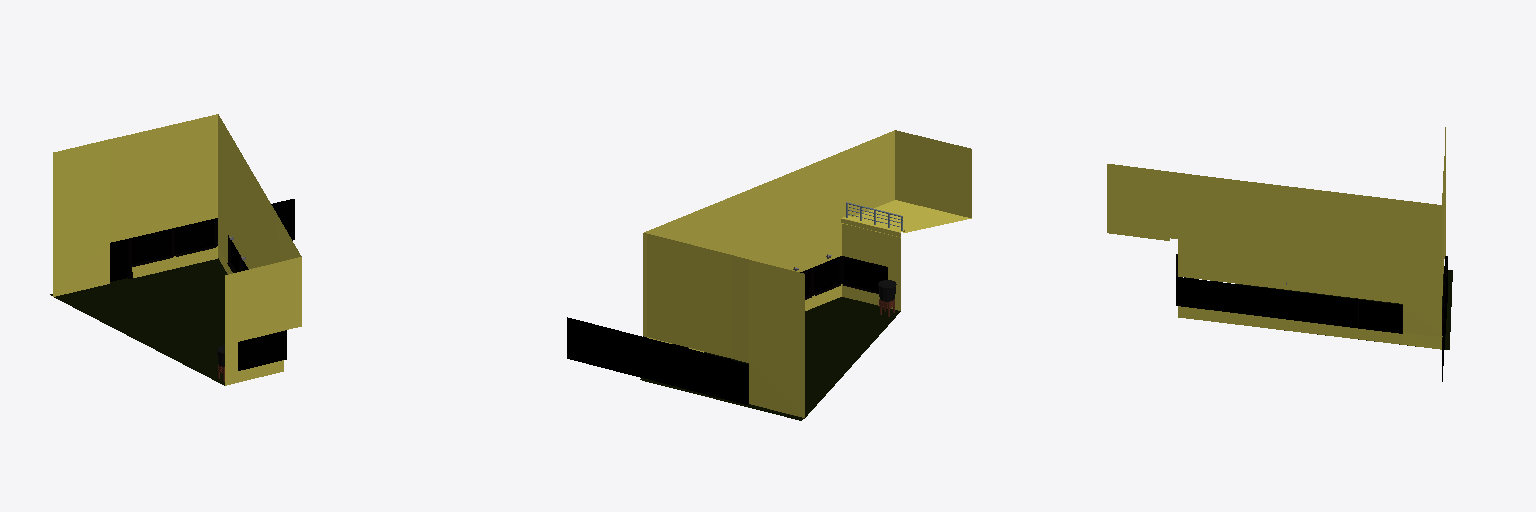
The model's file is Kooliaed.obj.
3 views of the same model, side by side, from view 1: azimuth 30°, elevation 25°; view 2: azimuth 150°, elevation 25°; view 3: azimuth 270°, elevation 25° (orthographic).
Parts seen in each view (by area): view 1: Yard; view 2: Yard; view 3: Yard.
Part boxes in pixels (x1,y1,x2,y2): Yard: (50,114,301,385); Yard: (567,130,971,420); Yard: (1107,127,1452,381).
Size of the model in its own units: 13.49 by 7.8 by 16.86.